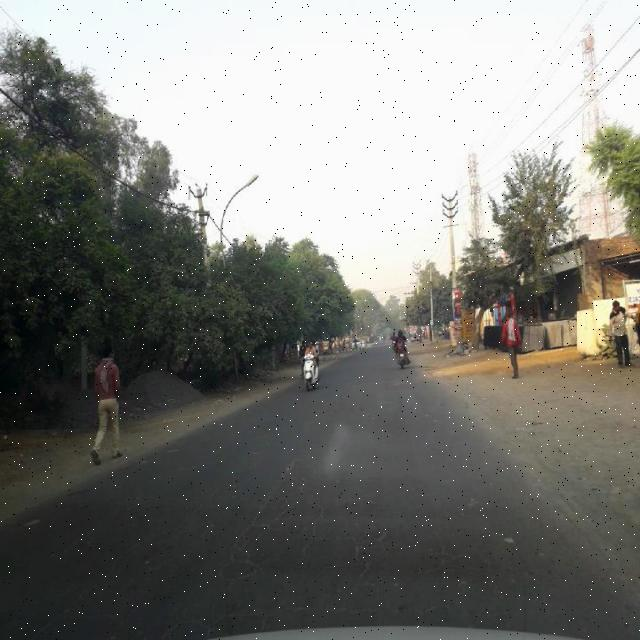D20: (198, 456, 436, 628)
